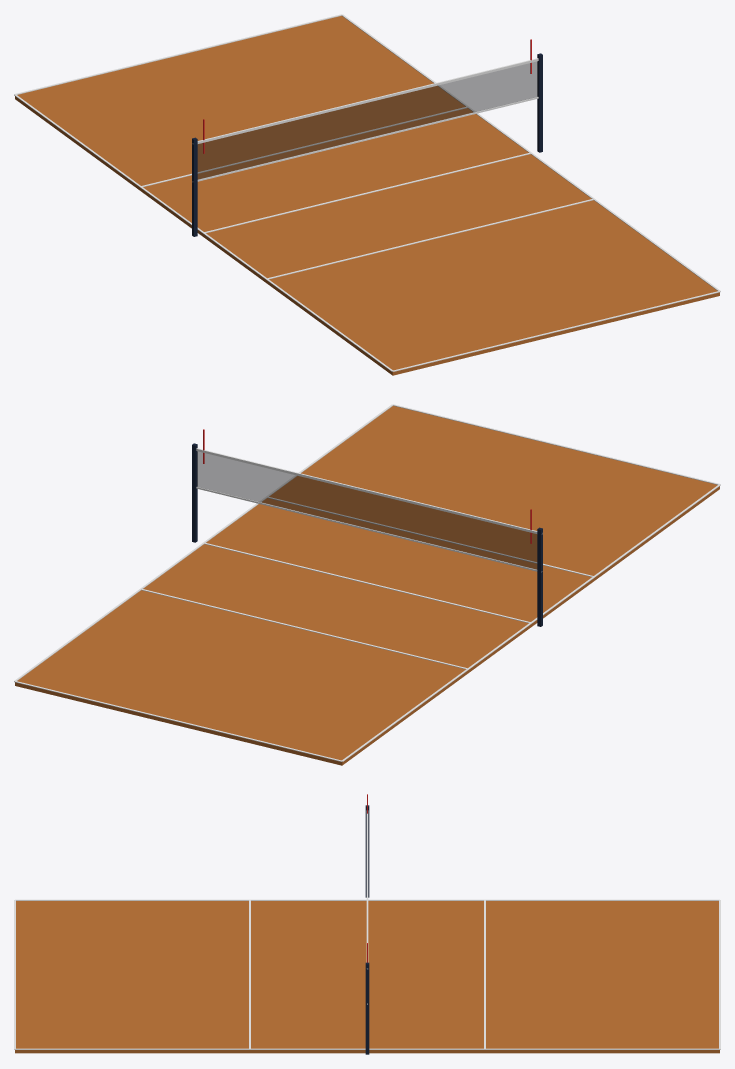
File: VolleyballCourt.obj
The picture shows the model from 3 angles, top to bottom: view 1: azimuth 30°, elevation 25°; view 2: azimuth 150°, elevation 25°; view 3: azimuth 270°, elevation 25°; orthographic projection. The views are drawn at different scales.
Visible parts, largest first — view 1: CourtFloor, Net, NetTopTape, Line_Left, Line_Right, NetBottomTape, Line_Back_North, Line_Back_South, Line_Attack_North, Line_Center, Line_Attack_South, NetPost_Left (+1 smaller); view 2: CourtFloor, Net, NetTopTape, Line_Left, Line_Right, NetBottomTape, Line_Back_South, Line_Attack_South, Line_Back_North, Line_Center, Line_Attack_North, NetPost_Left (+1 smaller); view 3: CourtFloor, Line_Left, Line_Right, NetPost_Right, NetTopTape.
Boxes of the visible parts, <box> form: CourtFloor: <box>15,16,719,375</box>; Net: <box>197,61,538,179</box>; NetTopTape: <box>192,58,538,144</box>; Line_Left: <box>14,94,393,371</box>; Line_Right: <box>341,14,720,291</box>; NetBottomTape: <box>192,96,538,182</box>; Line_Back_North: <box>392,291,720,371</box>; Line_Back_South: <box>14,14,341,94</box>; Line_Attack_North: <box>266,198,593,279</box>; Line_Center: <box>204,152,530,233</box>; Line_Attack_South: <box>141,106,467,186</box>; NetPost_Left: <box>192,137,197,236</box>; CourtFloor: <box>15,406,719,765</box>; Net: <box>196,451,537,569</box>; NetTopTape: <box>196,448,542,534</box>; Line_Left: <box>341,484,720,761</box>; Line_Right: <box>14,404,393,681</box>; NetBottomTape: <box>196,486,542,572</box>; Line_Back_South: <box>14,681,342,761</box>; Line_Attack_South: <box>140,588,468,669</box>; Line_Back_North: <box>393,404,720,484</box>; Line_Center: <box>204,542,530,623</box>; Line_Attack_North: <box>267,496,593,576</box>; NetPost_Left: <box>537,527,542,626</box>; CourtFloor: <box>15,901,719,1053</box>; Line_Left: <box>15,899,719,900</box>; Line_Right: <box>15,1048,719,1049</box>; NetPost_Right: <box>365,962,369,1054</box>; NetTopTape: <box>366,810,368,969</box>.
Size of the model in its own units: 9.6 by 3.1 by 18.05.
